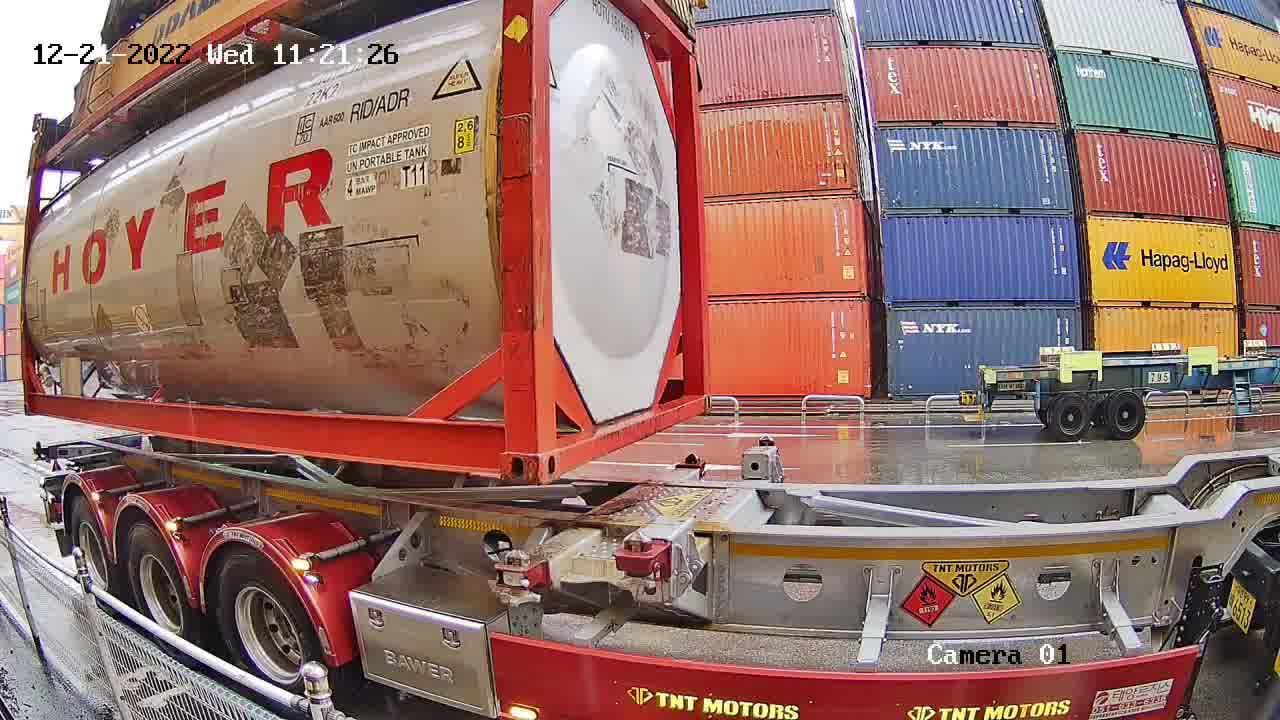Chassis: (496, 462, 702, 576)
Cone: (493, 549, 540, 609), (677, 453, 701, 470)
Hole_L: (537, 419, 575, 480)
Hole_R: (475, 426, 537, 482), (693, 382, 714, 415)
Tire: (215, 558, 323, 701), (127, 527, 197, 654), (70, 499, 114, 610)
